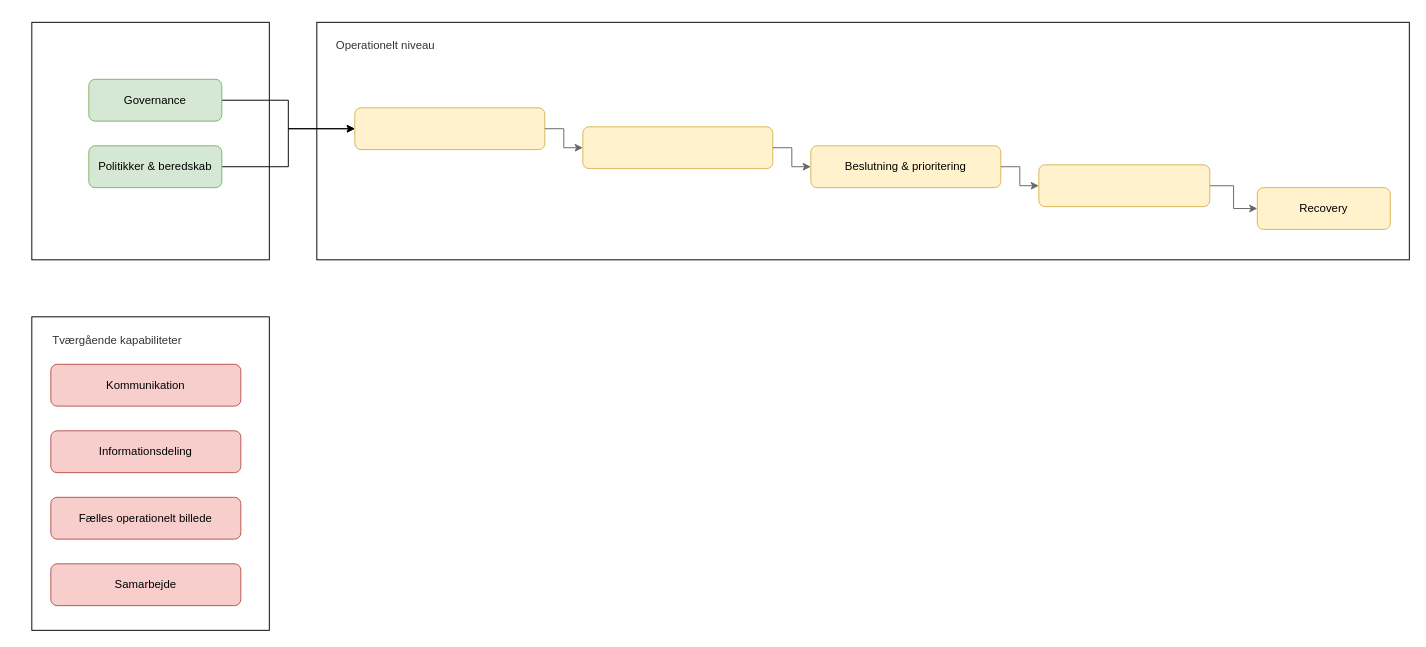
The diagram is 1426 pixels wide and 647 high, and some of its shapes have lost their labels. Each missing label, with the centre of its shape:
Detektion & rapportering: (x=449, y=128)
Respons & koordinering: (x=1124, y=185)
Situationsforståelse: (x=677, y=147)
Strategisk niveau: (x=136, y=46)
